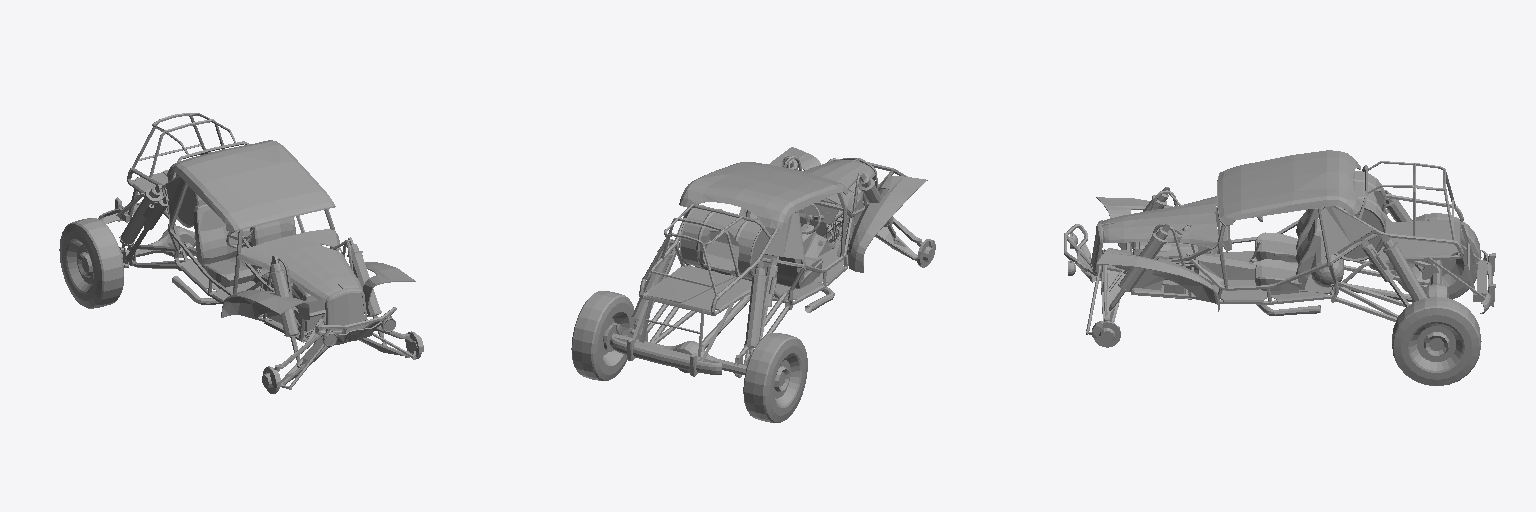
File: BuggyChassi.obj
The picture shows the model from 3 angles: view 1: azimuth 30°, elevation 25°; view 2: azimuth 150°, elevation 25°; view 3: azimuth 270°, elevation 25°; orthographic projection.
Parts seen in each view (by area): view 1: BuggyExterior, BuggyWheels.003, BuggyInterior, BuggyShockAbs; view 2: BuggyExterior, BuggyWheels.003, BuggyWheels.001, BuggyShockAbs, BuggyInterior; view 3: BuggyExterior, BuggyWheels.001, BuggyInterior, BuggyShockAbs, BuggyWheels.003, BuggyEngine.
Part boxes in pixels (bbox=[...]): BuggyExterior: bbox=[98, 113, 423, 393]; BuggyWheels.003: bbox=[59, 218, 123, 308]; BuggyInterior: bbox=[194, 203, 292, 290]; BuggyShockAbs: bbox=[121, 195, 380, 334]; BuggyExterior: bbox=[603, 147, 935, 377]; BuggyWheels.003: bbox=[743, 333, 807, 422]; BuggyWheels.001: bbox=[571, 291, 635, 380]; BuggyShockAbs: bbox=[633, 161, 892, 344]; BuggyInterior: bbox=[776, 204, 840, 288]; BuggyExterior: bbox=[1064, 150, 1495, 347]; BuggyWheels.001: bbox=[1392, 297, 1481, 385]; BuggyInterior: bbox=[1208, 208, 1321, 294]; BuggyShockAbs: bbox=[1091, 200, 1427, 301]; BuggyWheels.003: bbox=[1398, 213, 1481, 299]; BuggyEngine: bbox=[1133, 230, 1197, 287].
Size of the model in its own units: 4.87 by 4.01 by 9.31.